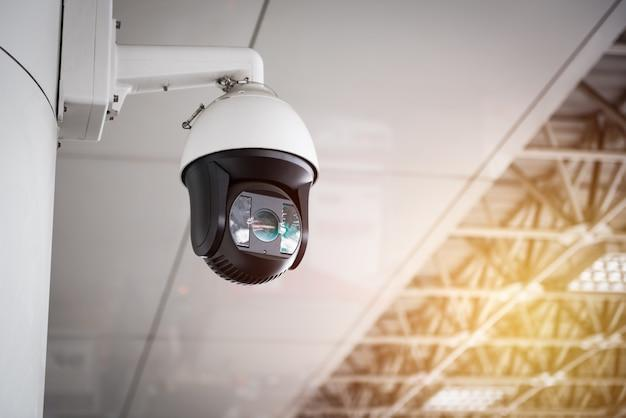camera: (151, 27, 343, 290)
